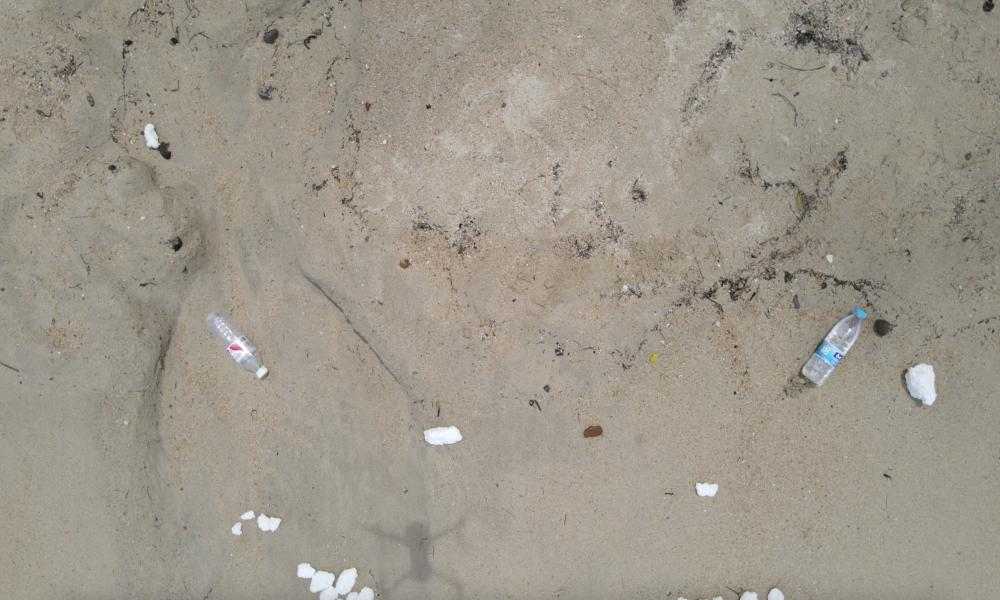plastic bottle: (800, 309, 866, 387), (204, 310, 270, 382)
styrofoam: (297, 558, 368, 600), (904, 360, 938, 408), (234, 510, 282, 532), (424, 425, 463, 447), (697, 484, 721, 500), (145, 121, 158, 150), (744, 592, 784, 600)
